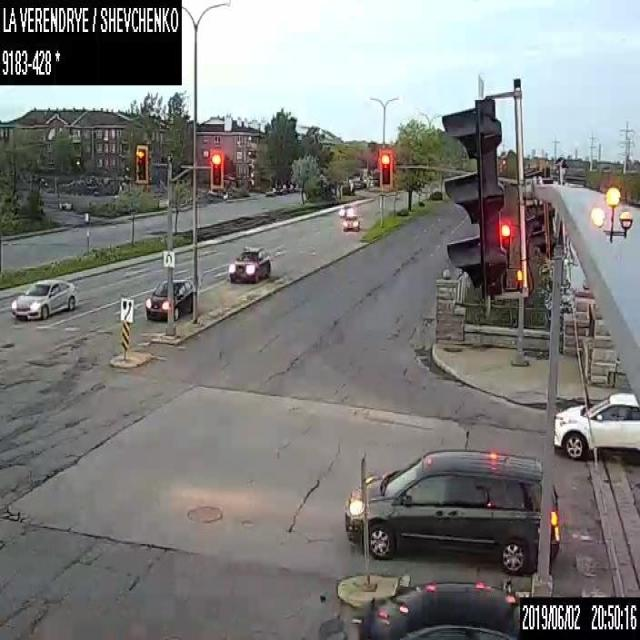vehicle: (345, 445, 560, 576), (319, 577, 519, 639), (554, 389, 639, 462), (9, 276, 78, 320), (228, 242, 271, 282), (144, 279, 167, 320), (171, 277, 192, 320), (342, 214, 359, 231), (339, 204, 354, 217), (275, 183, 286, 194), (354, 179, 366, 189), (264, 186, 276, 196)
